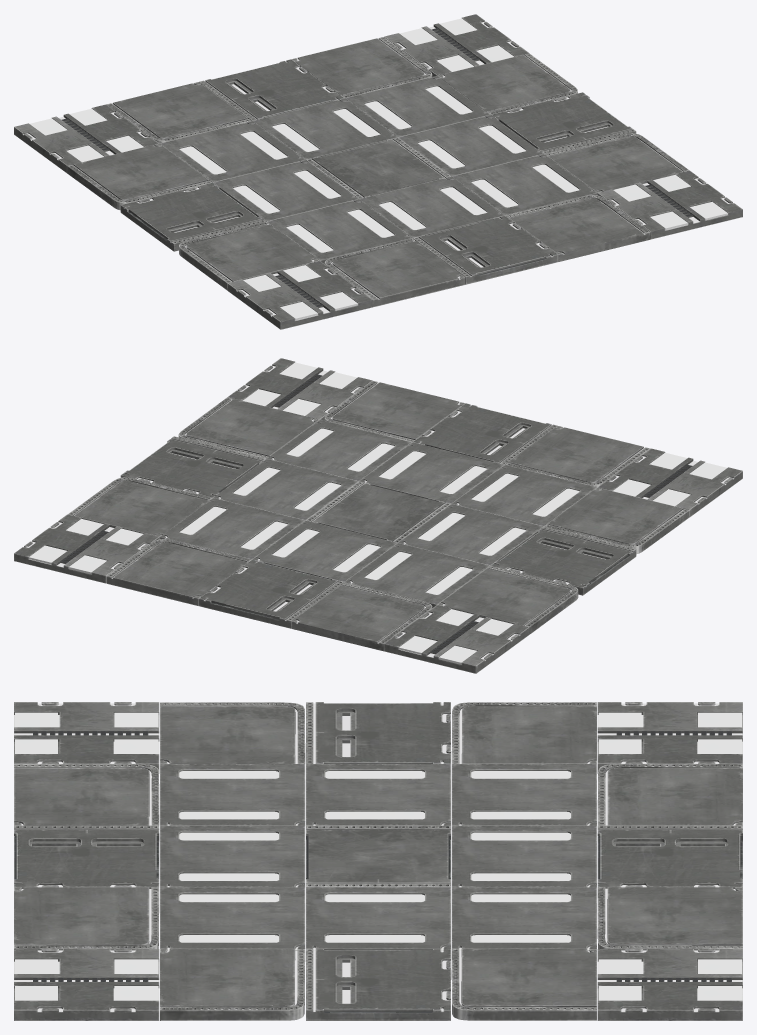
The model's file is floor.glb.
3 renders of one model, top to bottom at view 1: azimuth 30°, elevation 25°; view 2: azimuth 150°, elevation 25°; view 3: azimuth 270°, elevation 25°, orthographic. The views are drawn at different scales.
Parts seen in each view (by area): view 1: Floor_Module_5x5m; view 2: Floor_Module_5x5m; view 3: Floor_Module_5x5m.
Boxes of the visible parts, x1,y1,x2,y2 form: Floor_Module_5x5m: [14, 14, 742, 329]; Floor_Module_5x5m: [14, 358, 742, 673]; Floor_Module_5x5m: [14, 702, 742, 1020].
Bounding box in the file's own units: 5 × 0.08 × 5.
Materials: 1 (1 with a texture image).
